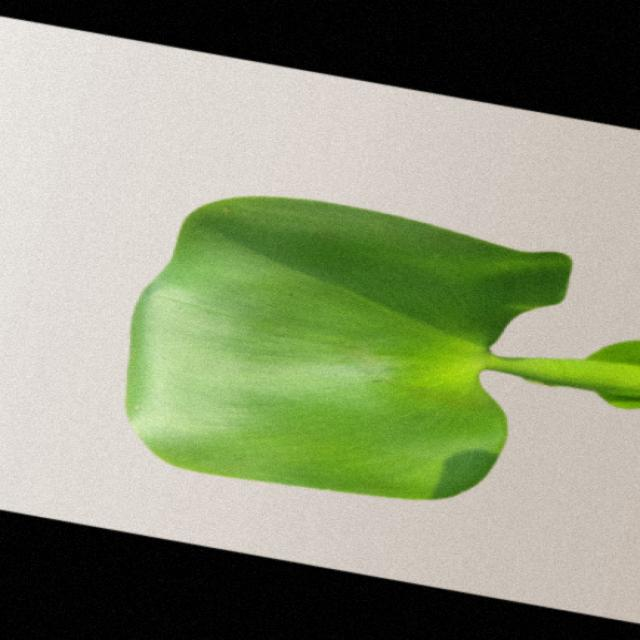daun sehat: (127, 196, 638, 498)
